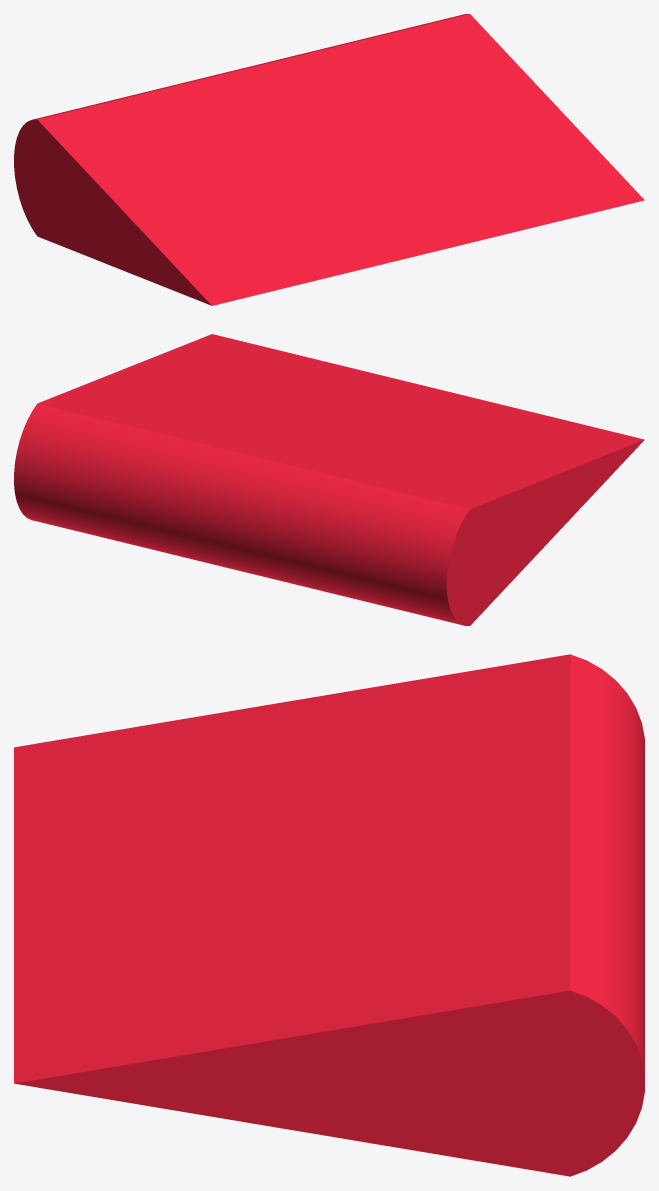
File: Mr Stabs Mk2 Image Synthesis.dae
The picture shows the model from 3 angles, top to bottom: view 1: azimuth 30°, elevation 25°; view 2: azimuth 150°, elevation 25°; view 3: azimuth 270°, elevation 25°; orthographic projection. The views are drawn at different scales.
Parts seen in each view (by area): view 1: ID2; view 2: ID2; view 3: ID2.
Boxes of the visible parts, x1,y1,x2,y2 form: ID2: [14, 14, 644, 305]; ID2: [14, 334, 644, 625]; ID2: [14, 654, 644, 1176].
Size of the model in its own units: 0.155 by 0.1229 by 0.04.
